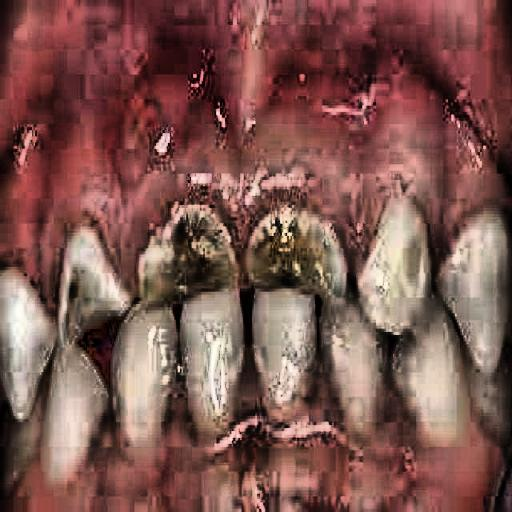Caries: (67, 194, 362, 340)
